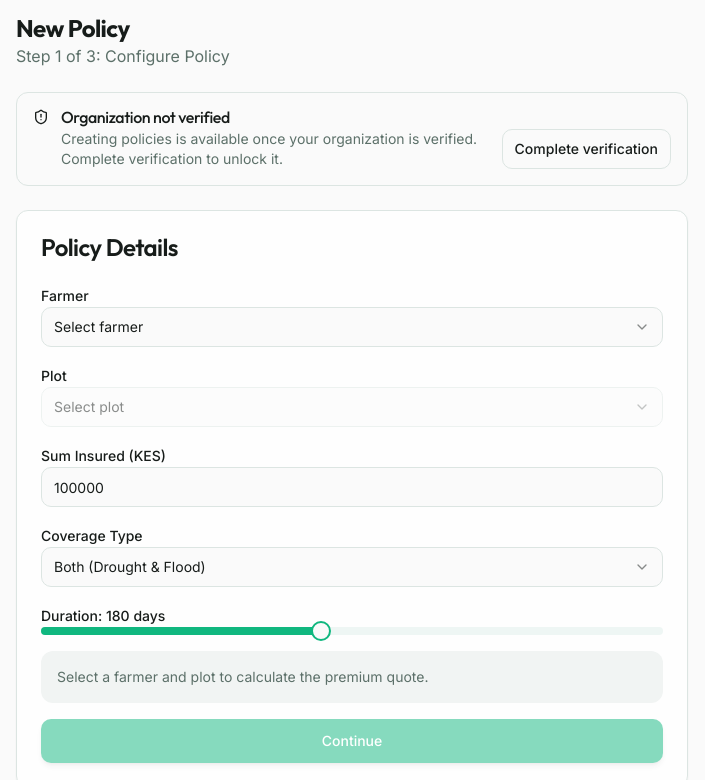
Test: NewPolicyPage and the catalogue › labels plots with their crop from the catalogue
Step 1. Click the dropdown labelled "Select farmer" → point(99, 326), box left=41, top=307, right=663, bottom=347
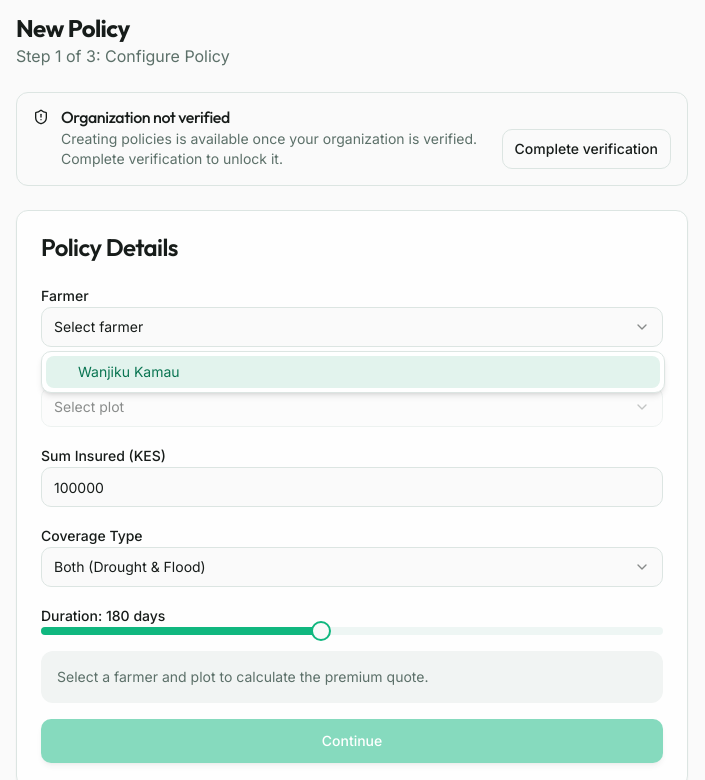
Step 2. Click the option "Wanjiku Kamau" → point(104, 372), box left=46, top=356, right=660, bottom=388
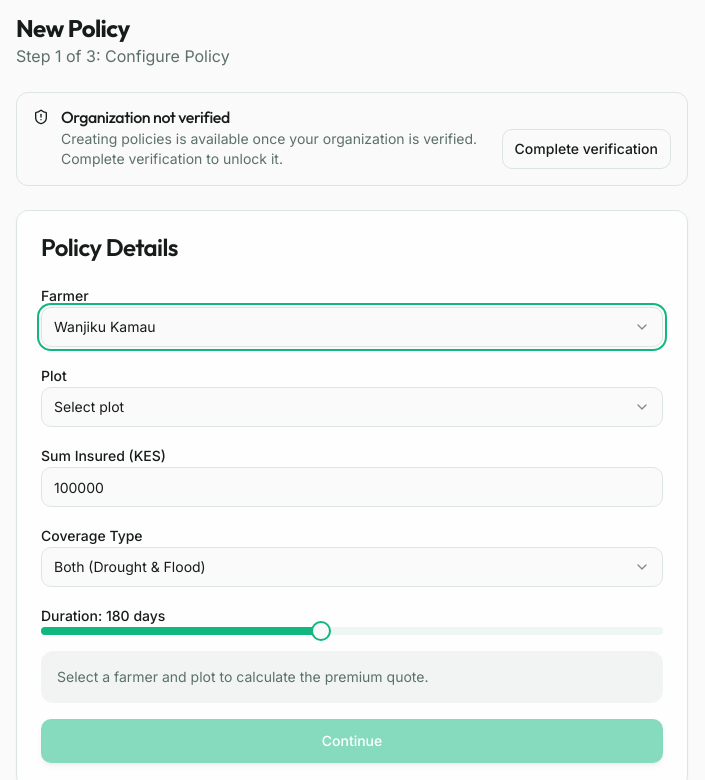
Step 3. Click the dropdown labelled "Select plot" → point(89, 406), box left=41, top=387, right=663, bottom=427
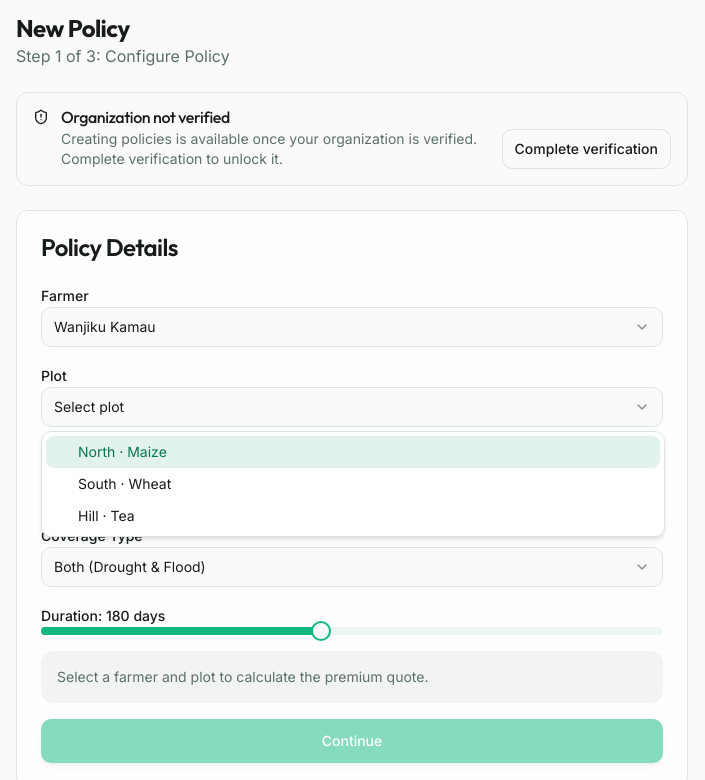
Step 4. Click the option "North · Maize" → point(97, 452), box left=46, top=436, right=660, bottom=468
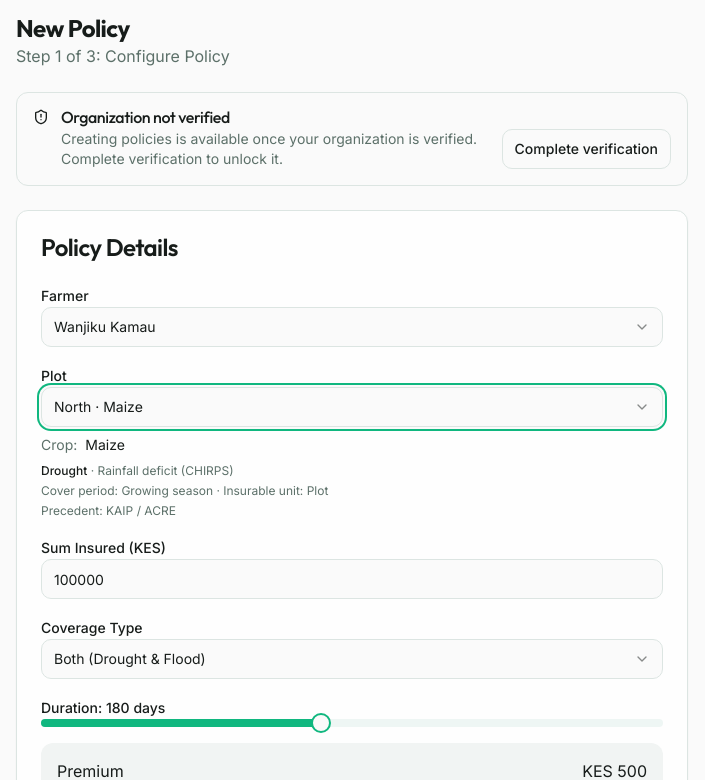
Check: the text "Maize" is shown, box left=85, top=435, right=125, bottom=455
